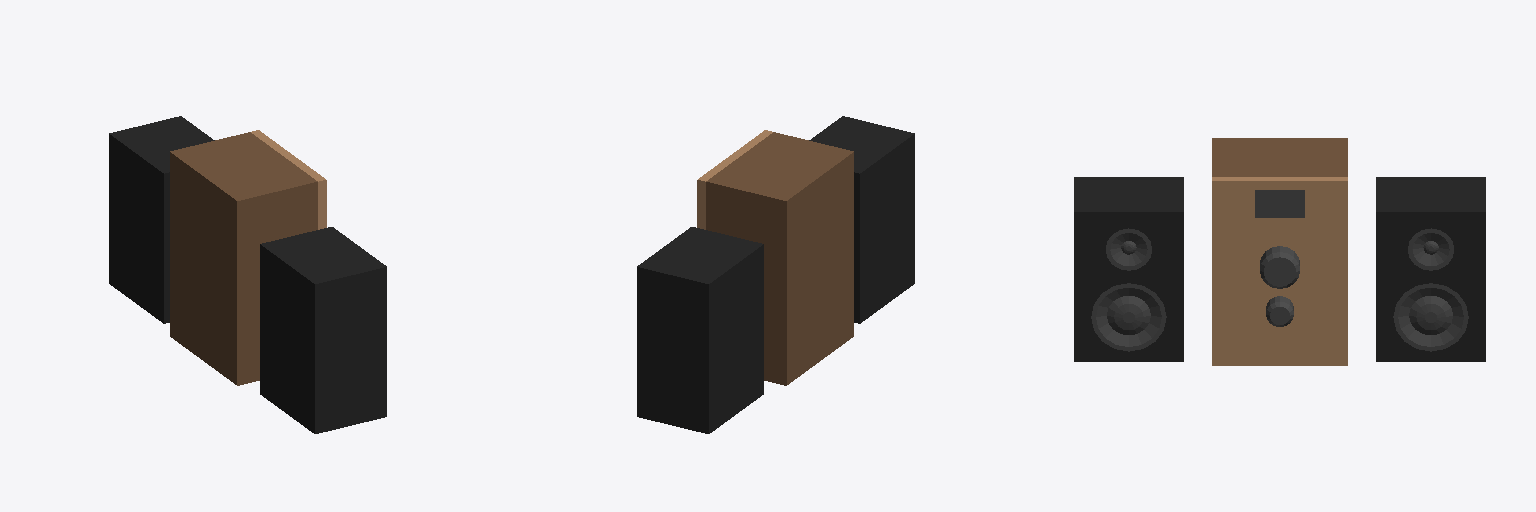
3 views of the same model, side by side, from view 1: azimuth 30°, elevation 25°; view 2: azimuth 150°, elevation 25°; view 3: azimuth 270°, elevation 25° (orthographic).
Parts seen in each view (by area): view 1: HIFI_Stereo; view 2: HIFI_Stereo; view 3: HIFI_Stereo.
Part boxes in pixels (bbox=[...]): HIFI_Stereo: bbox=[109, 116, 386, 433]; HIFI_Stereo: bbox=[637, 116, 914, 433]; HIFI_Stereo: bbox=[1074, 138, 1485, 365].
Bounding box in the file's own units: 23.53 × 39.58 × 80.06.
Materials: 1 (1 with a texture image).